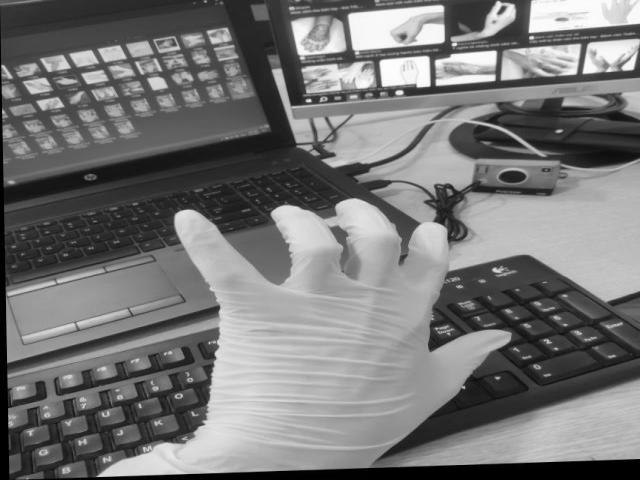gloved: (171, 197, 504, 471)
